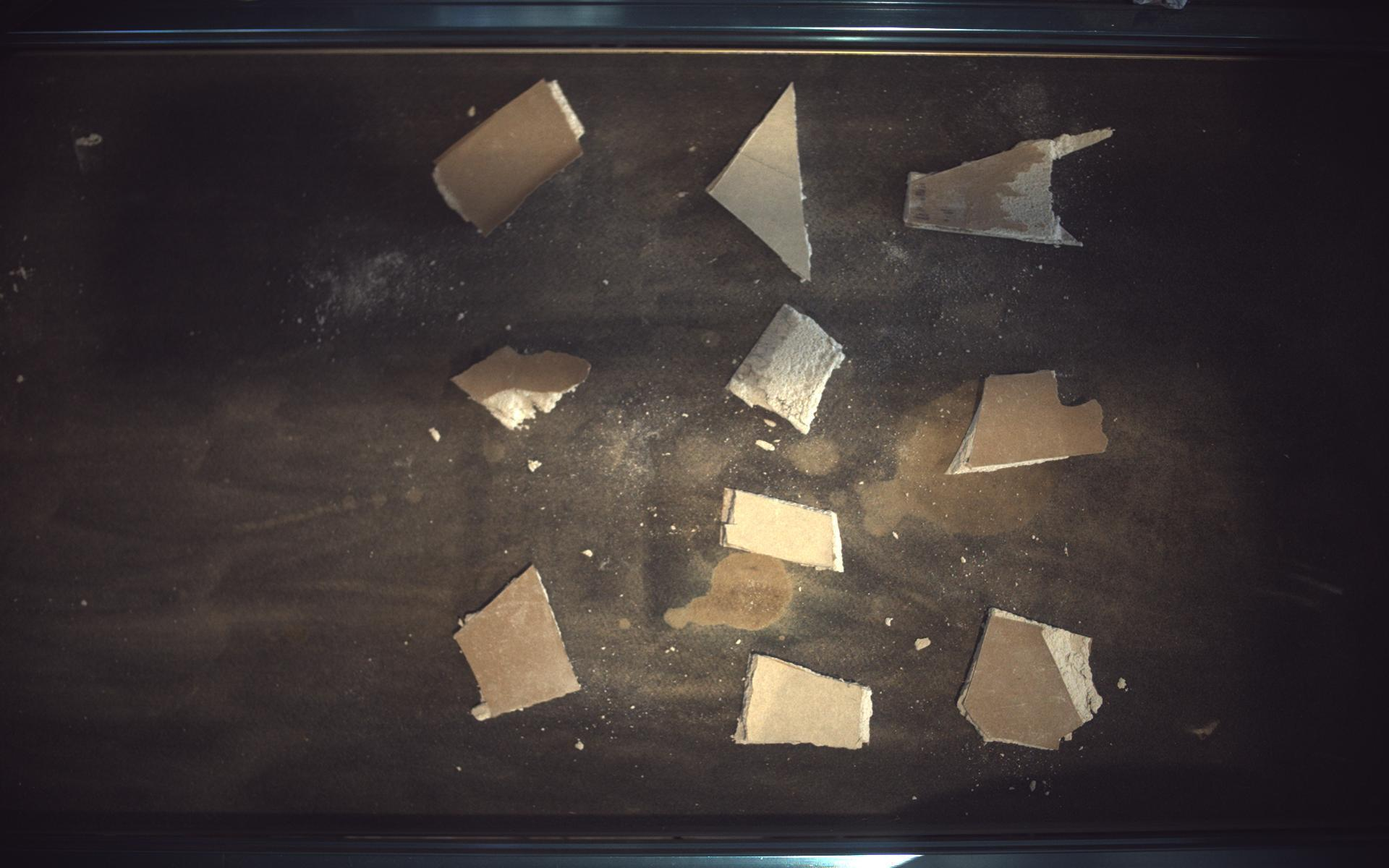gypsum_board: (905, 127, 1116, 245), (433, 79, 585, 235), (708, 82, 813, 280), (959, 610, 1105, 751), (454, 567, 582, 722), (949, 370, 1110, 475), (727, 305, 846, 434), (735, 655, 874, 751), (454, 346, 590, 430), (721, 490, 846, 573)
